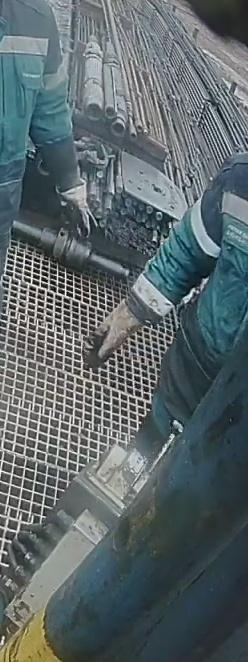gloves: (84, 291, 153, 370), (58, 174, 99, 243)
vest: (178, 150, 247, 360), (0, 0, 62, 185)
